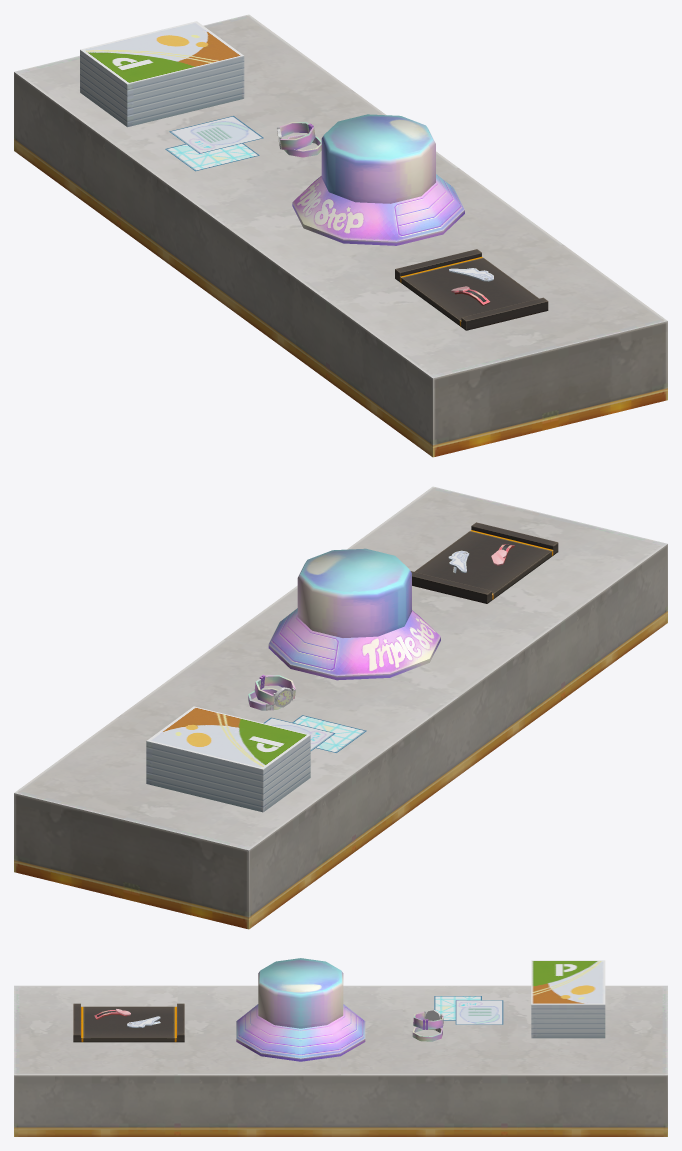
Rendered from my_shoppingmall_01_accstand_01.glb.
The picture shows the model from 3 angles, top to bottom: view 1: azimuth 30°, elevation 25°; view 2: azimuth 150°, elevation 25°; view 3: azimuth 270°, elevation 25°; orthographic projection. The views are drawn at different scales.
Visible parts, largest first — view 1: my_shoppingmall_01_accstand_01; view 2: my_shoppingmall_01_accstand_01; view 3: my_shoppingmall_01_accstand_01.
Part boxes in pixels (x1,y1,x2,y2): my_shoppingmall_01_accstand_01: (14,14,667,457); my_shoppingmall_01_accstand_01: (14,486,667,929); my_shoppingmall_01_accstand_01: (14,958,667,1136).
Size of the model in its own units: 0.00578 by 0.00363 by 0.0178.
1 material, 1 textured.
